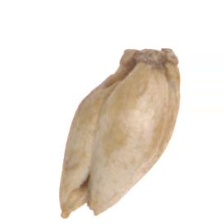L1: (118, 42, 175, 73), (59, 177, 100, 219)
L2: (58, 48, 180, 217)
